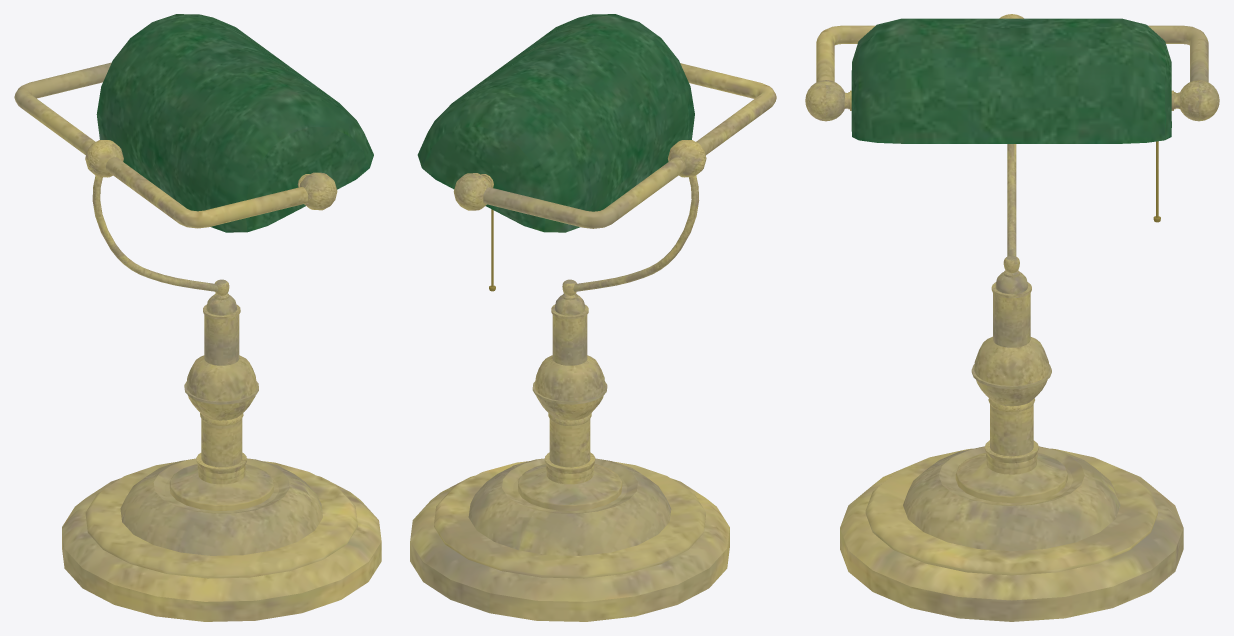
Rendered from victorian_desk_lamp.glb.
3 views of the same model, side by side, from view 1: azimuth 30°, elevation 25°; view 2: azimuth 150°, elevation 25°; view 3: azimuth 270°, elevation 25° (orthographic). The views are drawn at different scales.
Visible parts, largest first — view 1: desk_lamp:pCylinder36; view 2: desk_lamp:pCylinder36; view 3: desk_lamp:pCylinder36.
Part boxes in pixels (box(x1,y1,x2,y2)): desk_lamp:pCylinder36: box(14, 14, 381, 621); desk_lamp:pCylinder36: box(410, 14, 776, 621); desk_lamp:pCylinder36: box(805, 14, 1219, 621).
Bounding box in the file's own units: 39.28 × 66.72 × 47.36.
Materials: 1 (1 with a texture image).
